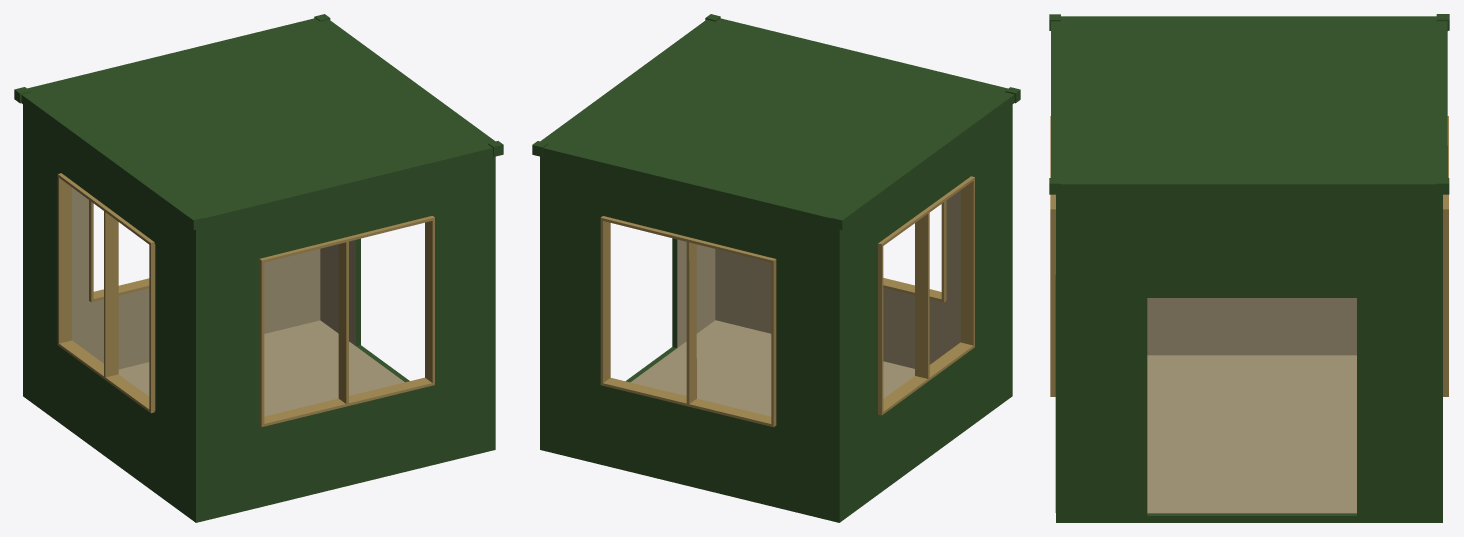
File: Observatory_small_middle.fbx
3 views of the same model, side by side, from view 1: azimuth 30°, elevation 25°; view 2: azimuth 150°, elevation 25°; view 3: azimuth 270°, elevation 25° (orthographic). The views are drawn at different scales.
Parts seen in each view (by area): view 1: ovservatory1; view 2: ovservatory1; view 3: ovservatory1.
Part boxes in pixels (<box>): ovservatory1: <box>14,14,503,522</box>; ovservatory1: <box>532,14,1020,522</box>; ovservatory1: <box>1049,14,1449,522</box>.
Size of the model in its own units: 3.62 by 3.41 by 3.62.
